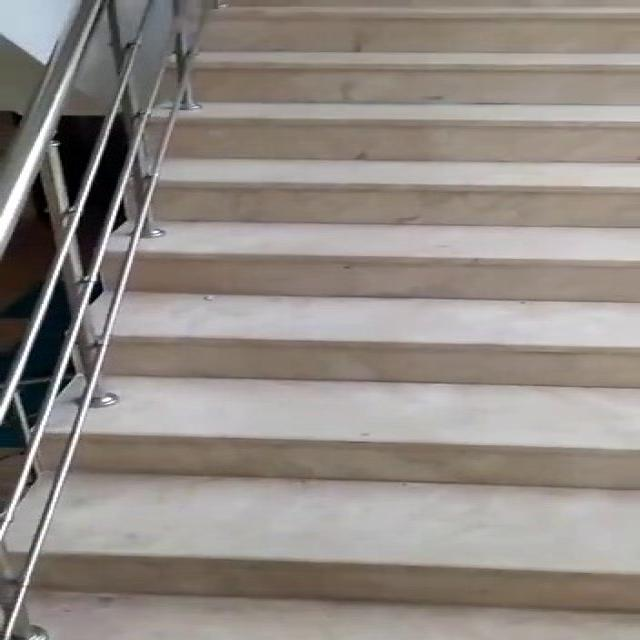stair: (83, 2, 640, 640)
